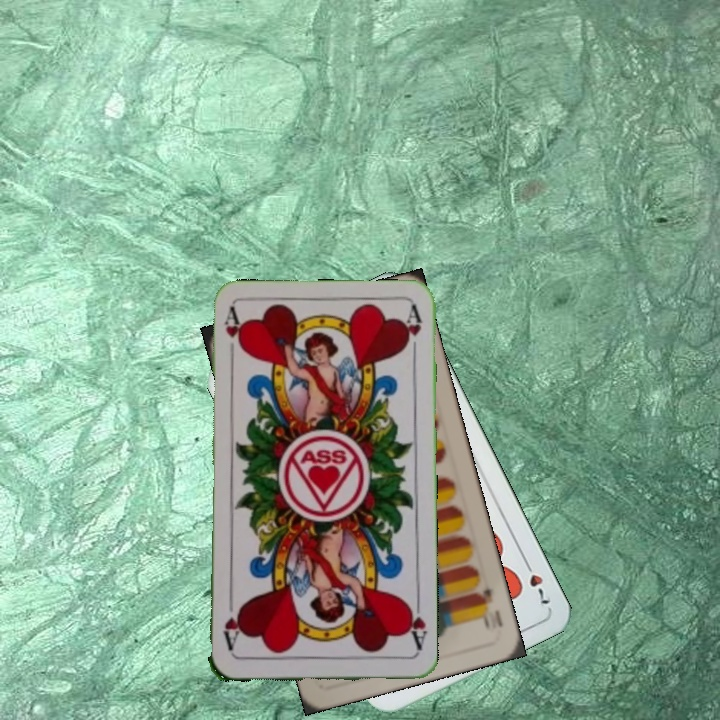E10: (472, 584, 505, 633)
H7: (519, 554, 553, 607)
HA: (402, 595, 429, 654), (220, 305, 242, 364)
